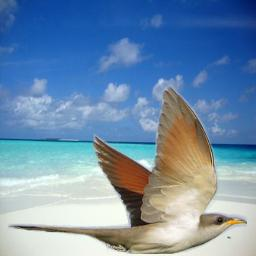Cuckoo: (7, 87, 247, 254)
